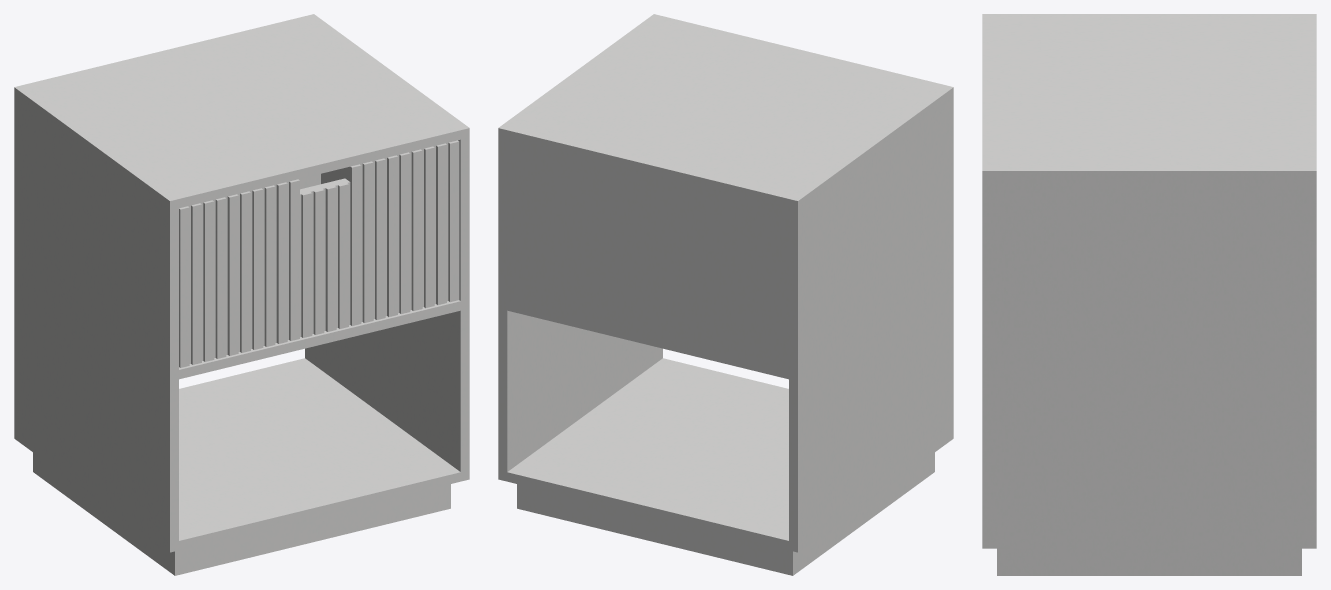
The model's file is 002_Mesa-de-Noche-Ibiza.glb.
3 views of the same model, side by side, from view 1: azimuth 30°, elevation 25°; view 2: azimuth 150°, elevation 25°; view 3: azimuth 270°, elevation 25° (orthographic). The views are drawn at different scales.
Visible parts, largest first — view 1: root; view 2: root; view 3: root.
Boxes of the visible parts, x1,y1,x2,y2 form: root: (14,14,469,575); root: (498,14,953,575); root: (982,14,1316,575).
Size of the model in its own units: 0.5 by 0.61 by 0.45.
2 materials, 2 textured.
